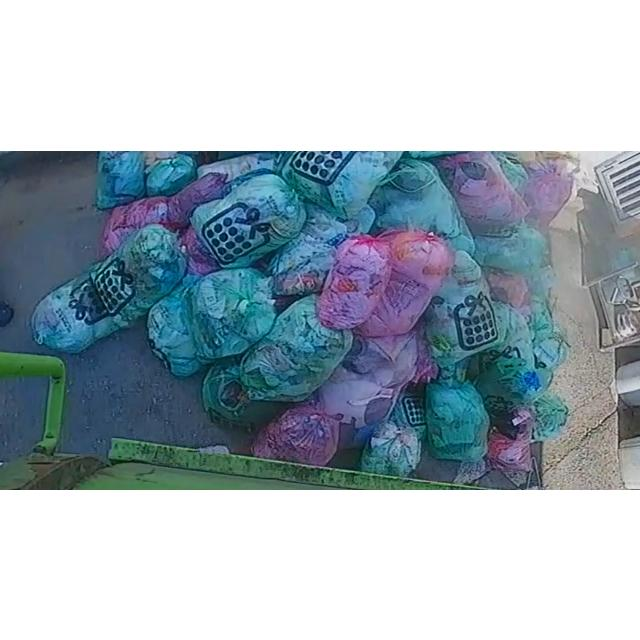general_trashbag: (240, 294, 352, 399), (191, 174, 306, 268), (369, 158, 475, 253), (91, 224, 186, 322), (425, 249, 499, 366), (281, 150, 402, 218), (191, 268, 276, 361), (31, 270, 124, 352), (269, 202, 348, 294), (202, 361, 294, 429), (146, 274, 201, 376), (425, 380, 490, 459), (476, 356, 552, 415), (474, 220, 549, 273), (360, 420, 421, 476), (481, 300, 532, 362), (95, 150, 145, 208), (146, 154, 196, 194), (532, 390, 570, 440), (390, 391, 426, 437), (532, 331, 569, 368)
other_trashbag: (358, 230, 454, 336), (435, 150, 529, 233), (318, 234, 391, 328), (251, 402, 339, 464), (100, 195, 168, 255), (524, 159, 572, 232), (169, 171, 227, 228), (489, 408, 532, 474)
